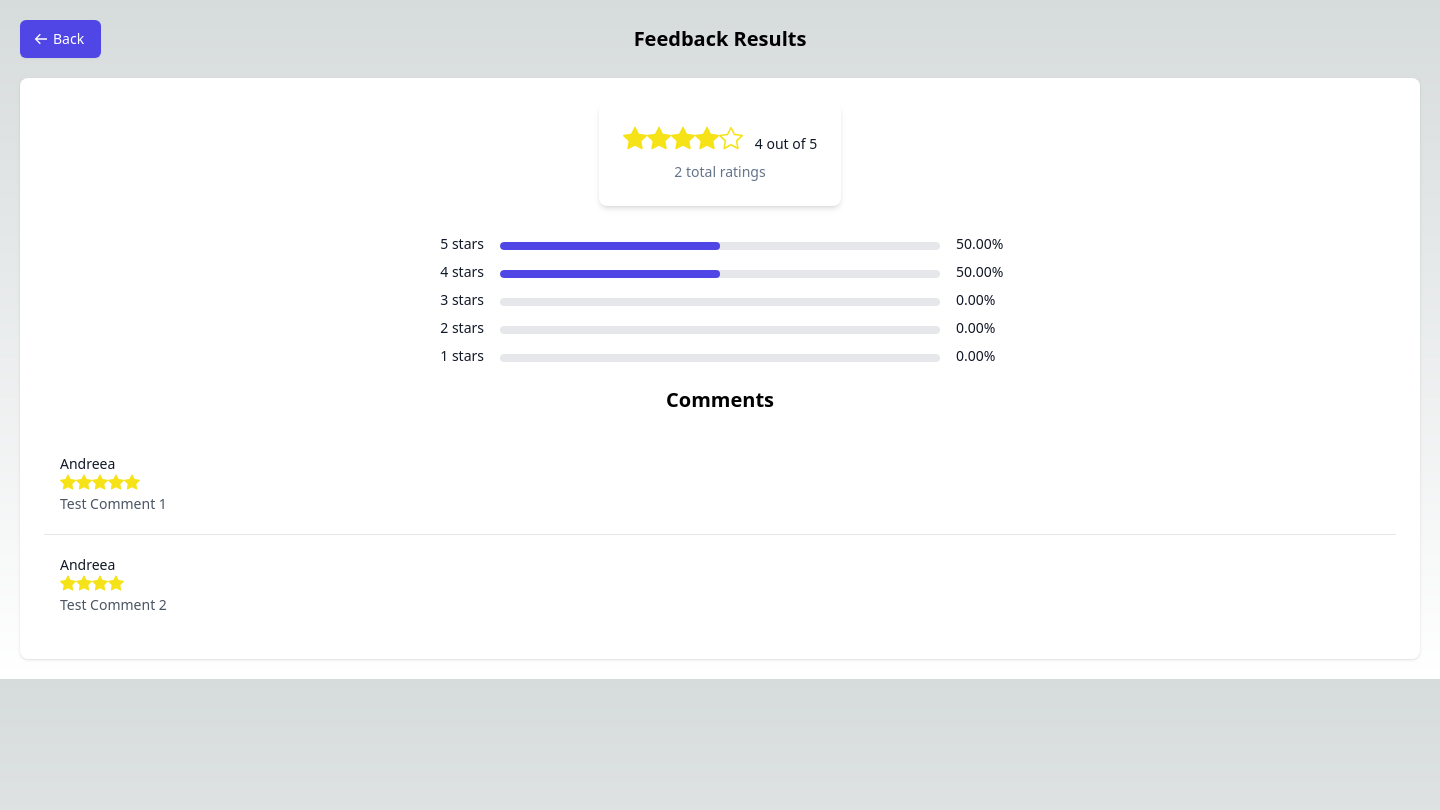
Test: Feedback Responses Page › resets the filter for all comments once Reset Filter is clicked
select content based on feedback distribution for 5 stars
Click the button with aria-label "5 star distribution rating". click: (722, 244)
box: x1=440 y1=234 x2=1004 y2=253
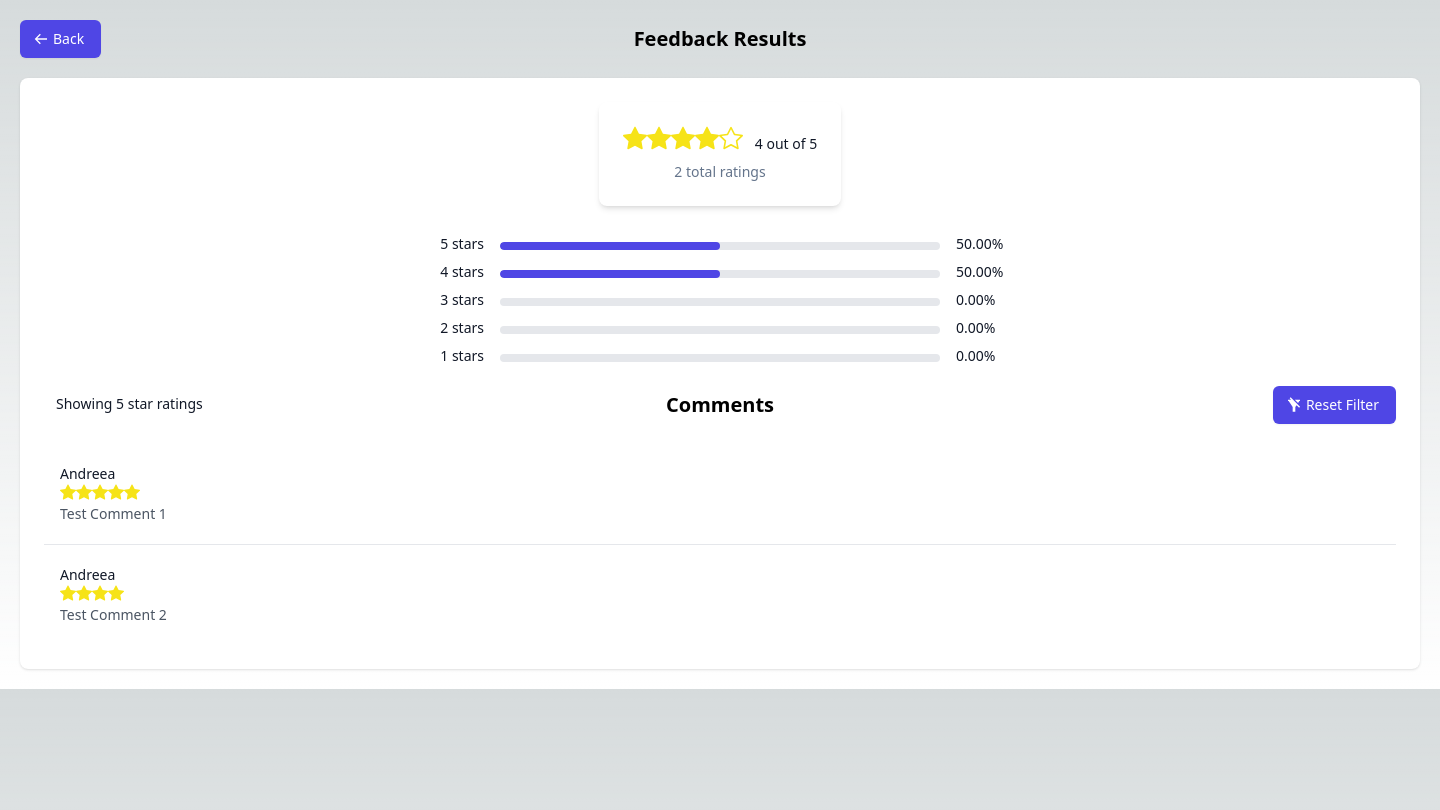
Expected: the text "Showing 5 star ratings" is shown, x1=56 y1=394 x2=203 y2=424
Expected: the button "Reset Filter" is shown
reset filter
Click the button "Reset Filter". click: (1334, 405)
box: x1=1273 y1=386 x2=1396 y2=424
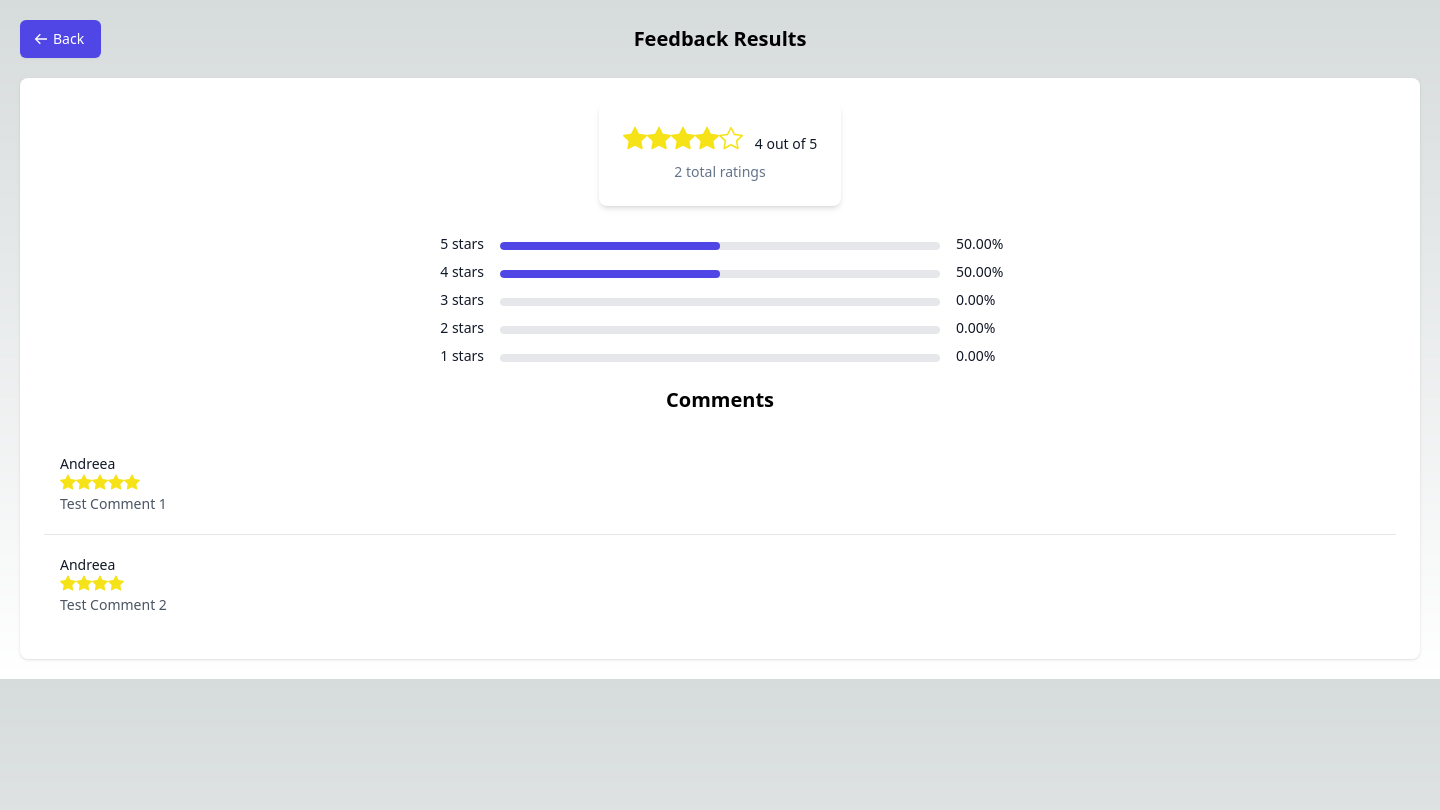
Expected: the text "Showing 5 star ratings" is gone
Expected: the button "Reset Filter" is gone
